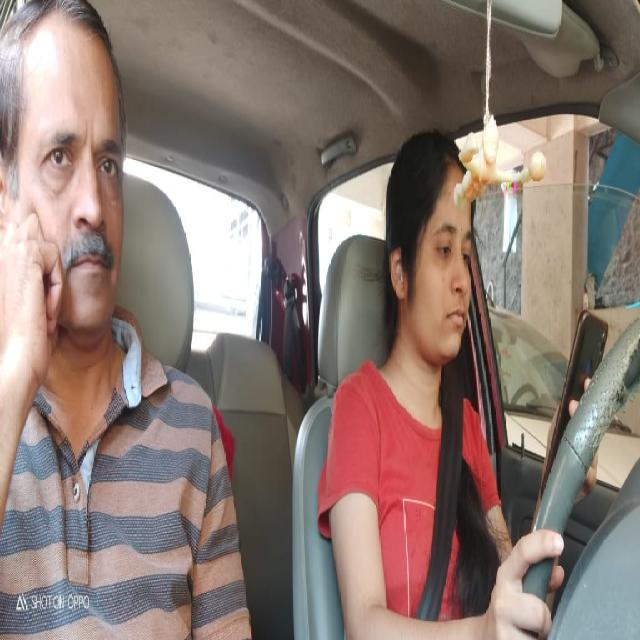mobile: (537, 308, 611, 520)
person: (0, 3, 138, 343), (383, 130, 482, 376)
